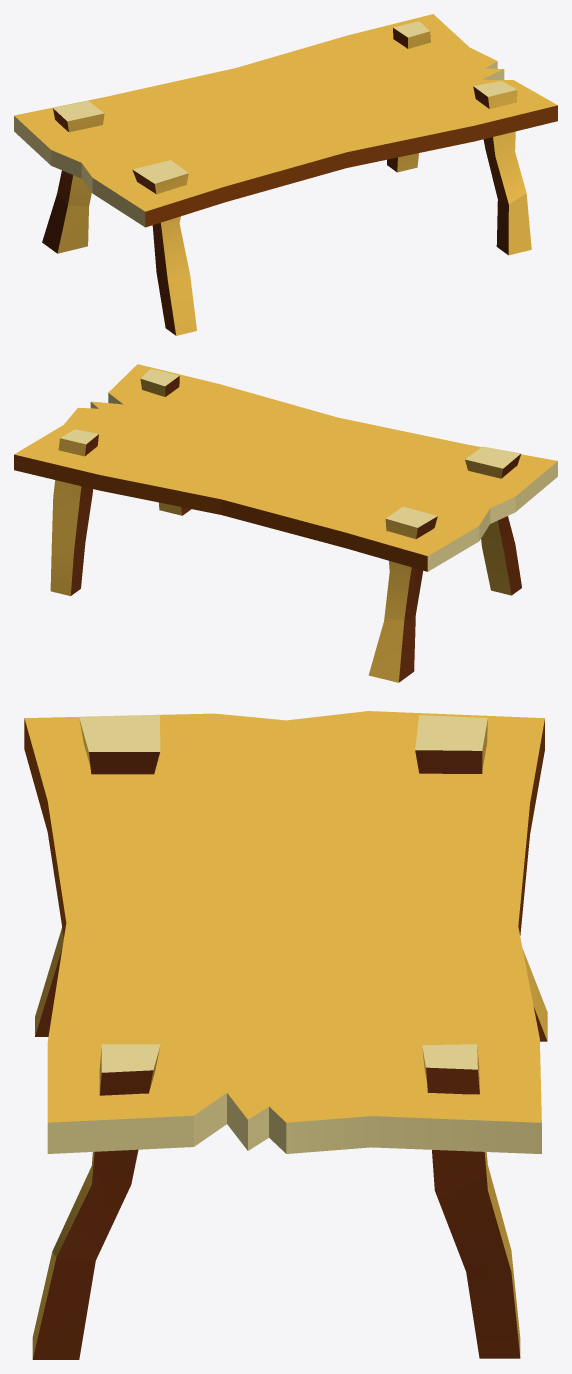
Rendered from table_wooden.fbx.
The picture shows the model from 3 angles, top to bottom: view 1: azimuth 30°, elevation 25°; view 2: azimuth 150°, elevation 25°; view 3: azimuth 270°, elevation 25°; orthographic projection. The views are drawn at different scales.
Visible parts, largest first — view 1: table_wooden; view 2: table_wooden; view 3: table_wooden.
Boxes of the visible parts, x1,y1,x2,y2 form: table_wooden: [14, 14, 557, 335]; table_wooden: [14, 364, 557, 682]; table_wooden: [24, 711, 547, 1359].
Bounding box in the file's own units: 1.8 × 0.5897 × 0.9637.
